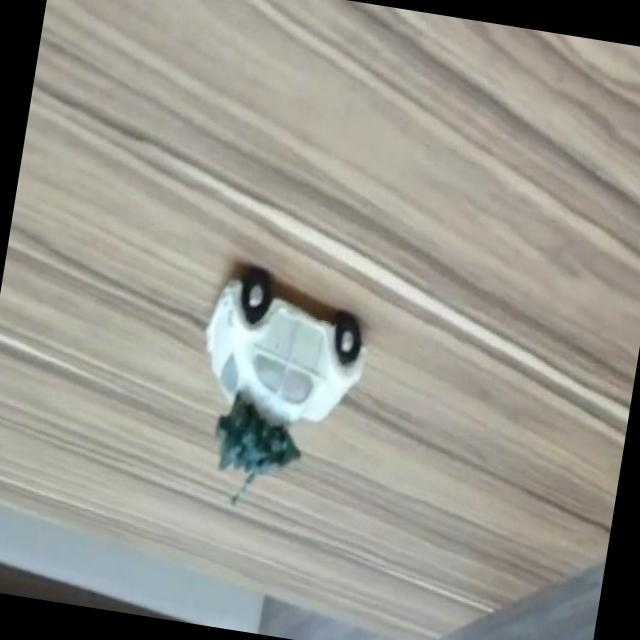car: (200, 271, 374, 427)
